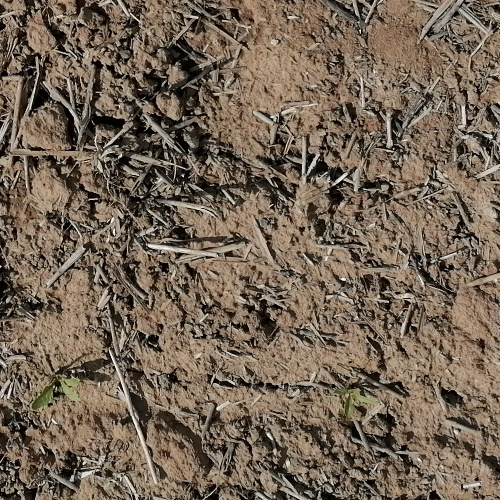beet: (30, 372, 81, 412), (331, 386, 382, 421)
